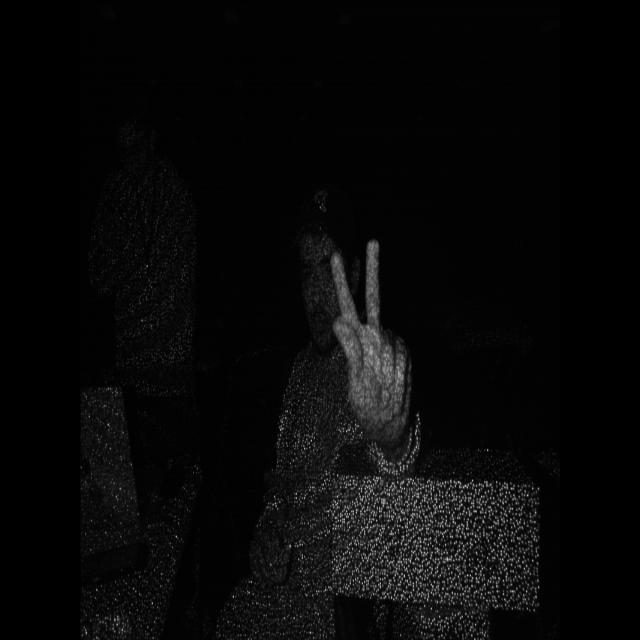K: (314, 216, 418, 435)
